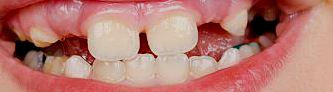Caries: (32, 54, 53, 69)
Hypodontia: (195, 12, 234, 43), (51, 28, 89, 49)
